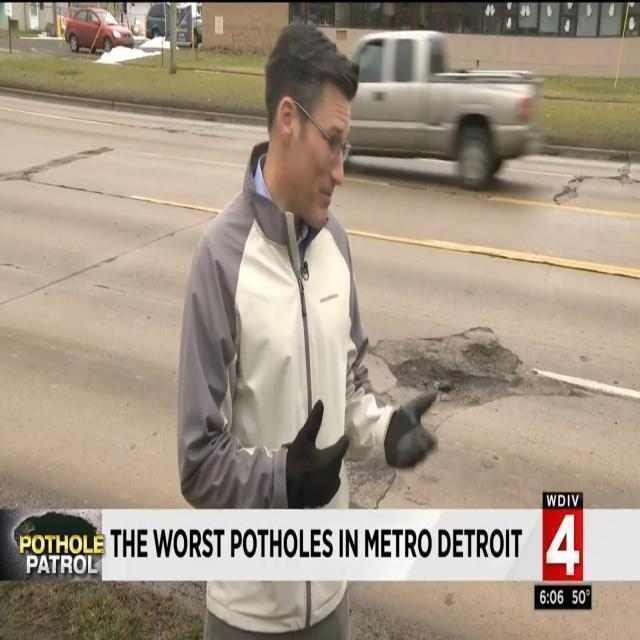pothole: (370, 326, 576, 408), (348, 462, 396, 508)
